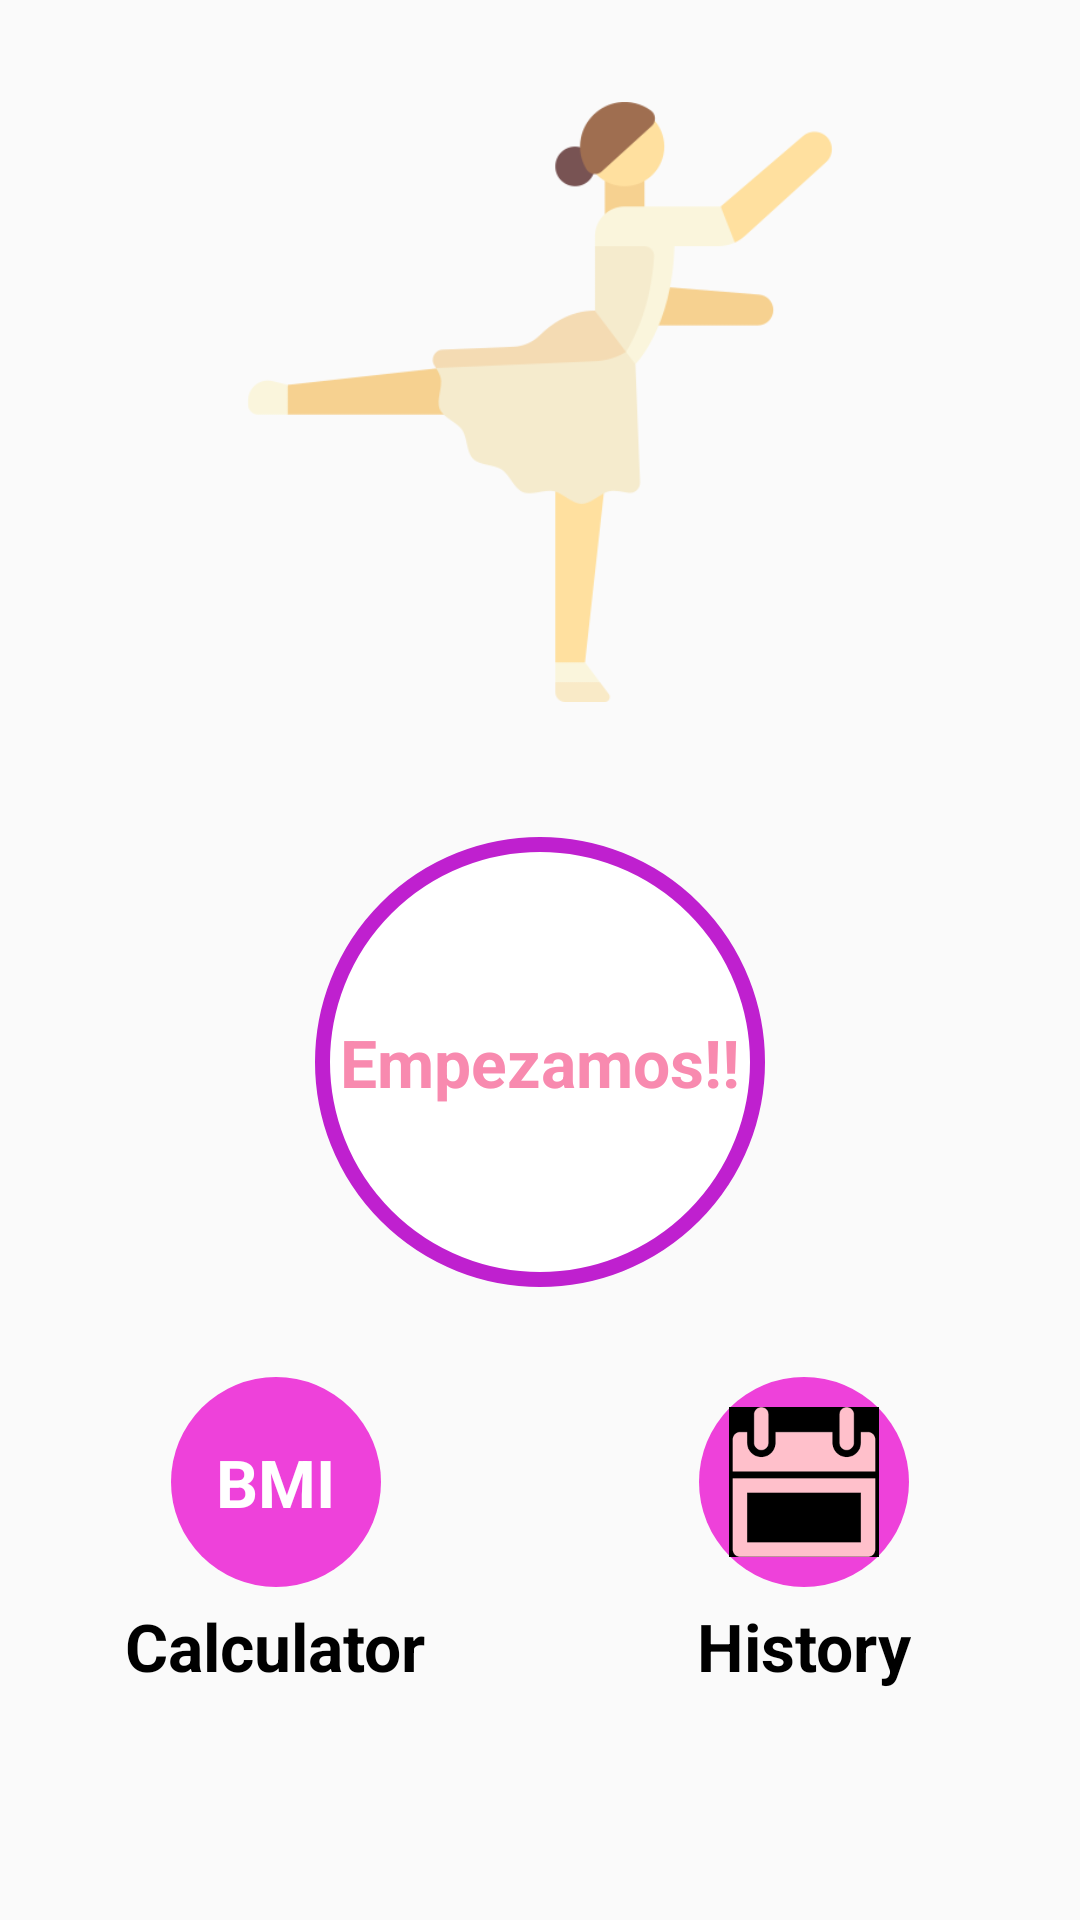

Named icons in this screenshot (1080px x 1920px) and their centers, point (x, y):
calendar: point (804, 1482)
